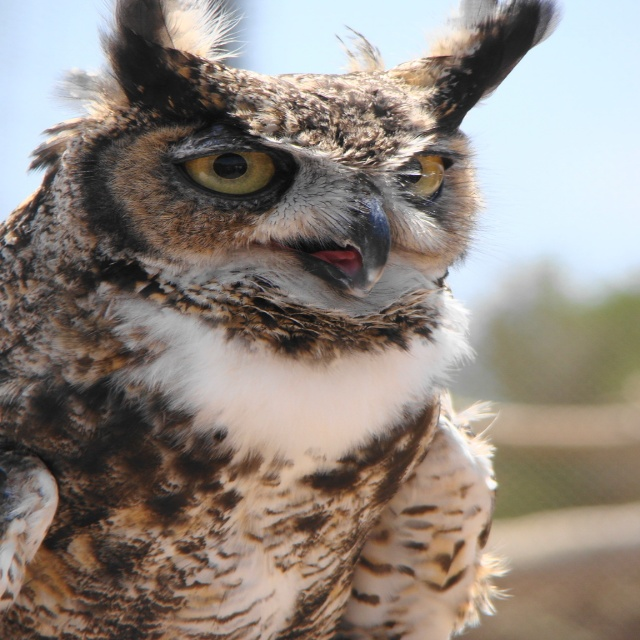Owl: (0, 0, 562, 640)
